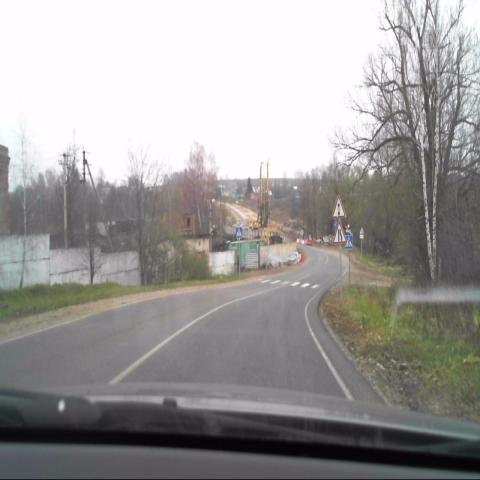1_8: (332, 195, 346, 218)
